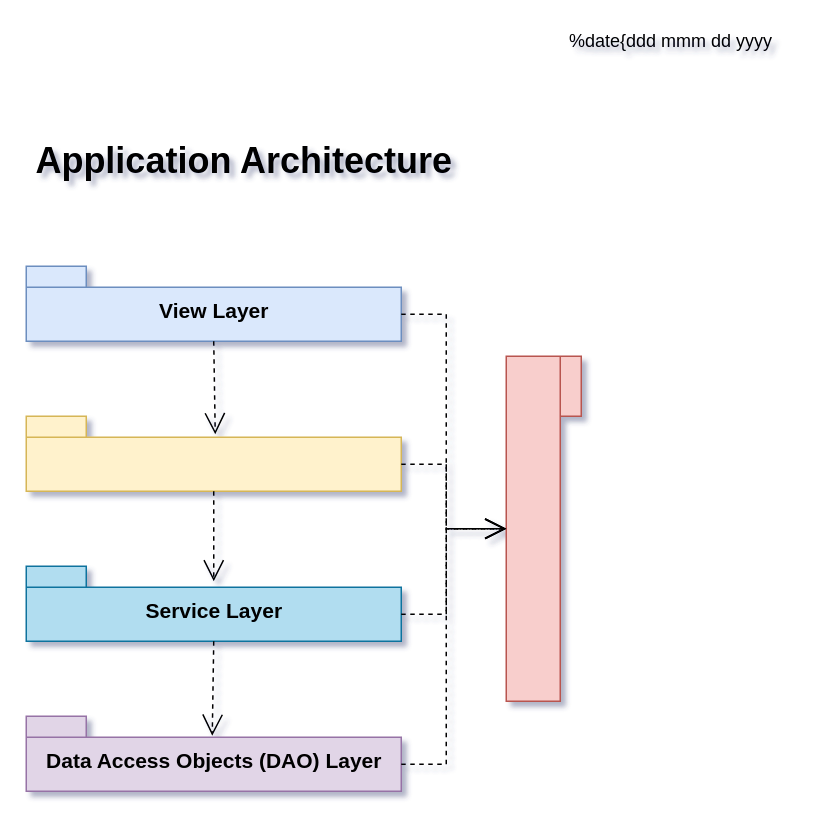
Some shapes in this 827 by 827 pixel diagram are drawn without their labels. Each missing label, with the box of its shape:
Controller Layer: (25, 415, 401, 491)
Domain Model: (505, 355, 581, 701)
